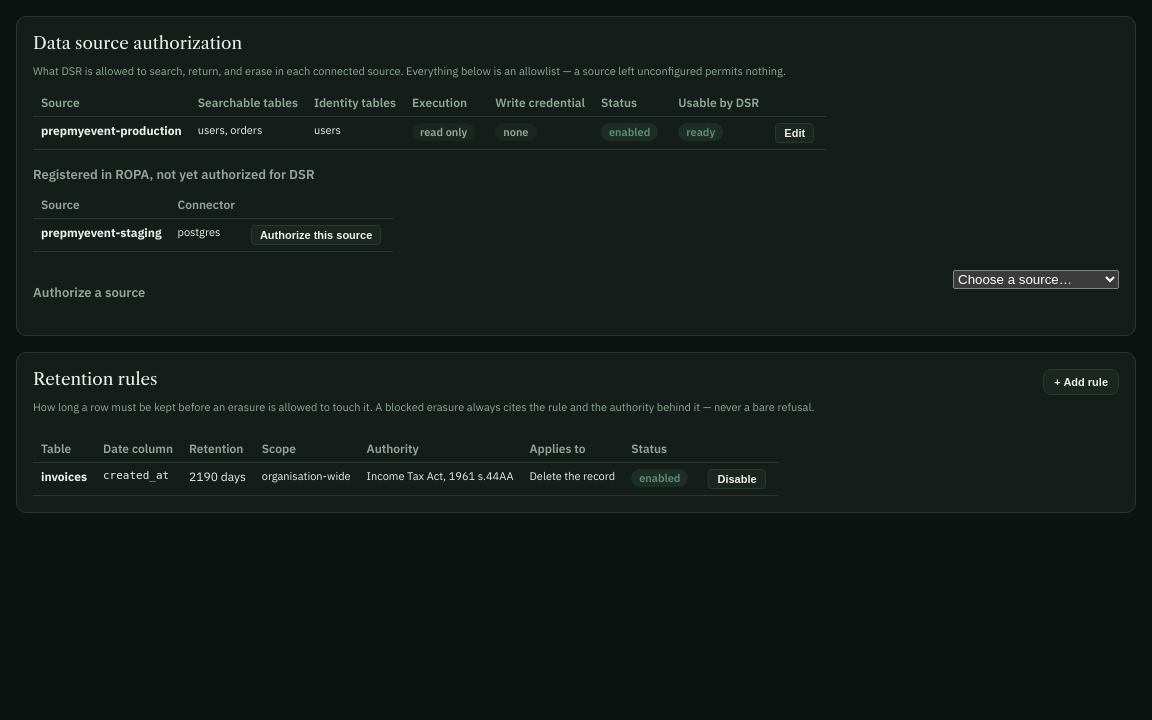
Test: DsrConfig: ROPA sources not yet authorized for DSR › authorizing an unauthorized source from the new list reuses the real authorization form
Expected: the cell "prepmyevent-staging" is shown, x1=33 y1=218 x2=170 y2=252
What coordinates should you click on to do the following:
click the button "Authorize this source"
I would click on:
 (316, 235)
Its box is x1=251 y1=225 x2=381 y2=245.
(page scrolled)
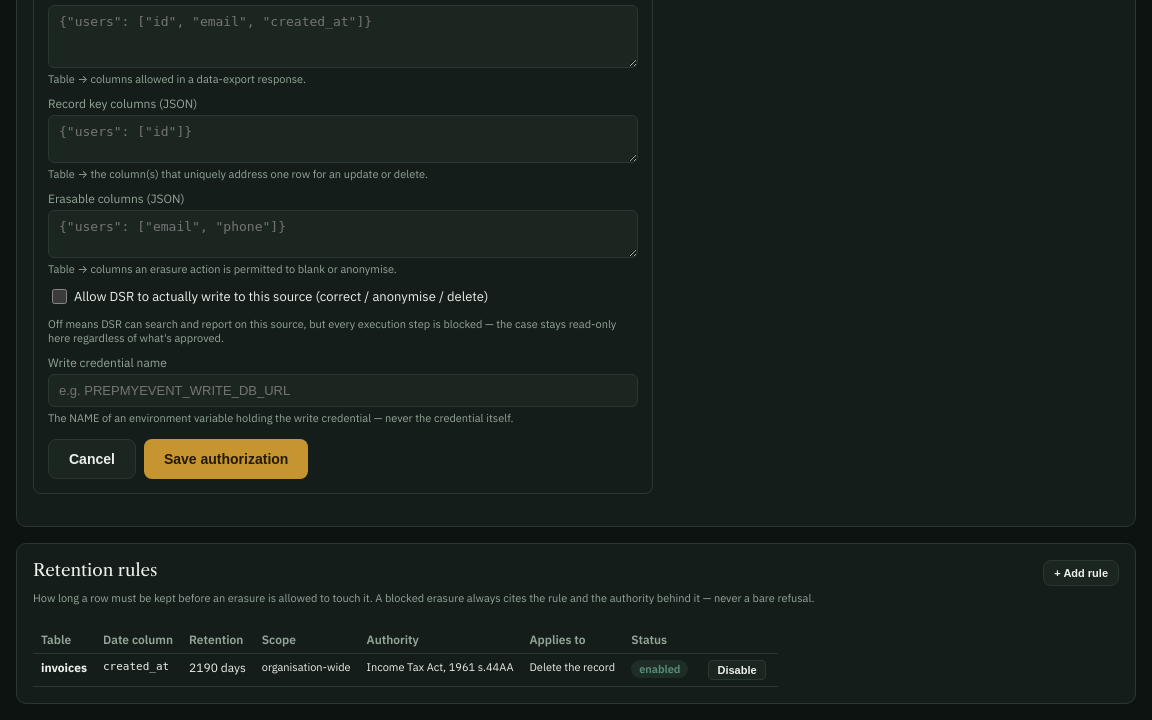
What coordinates should you click on to do the following:
click the button "Save authorization"
I would click on:
 (226, 459)
Its box is x1=144 y1=439 x2=308 y2=479.
(page scrolled)
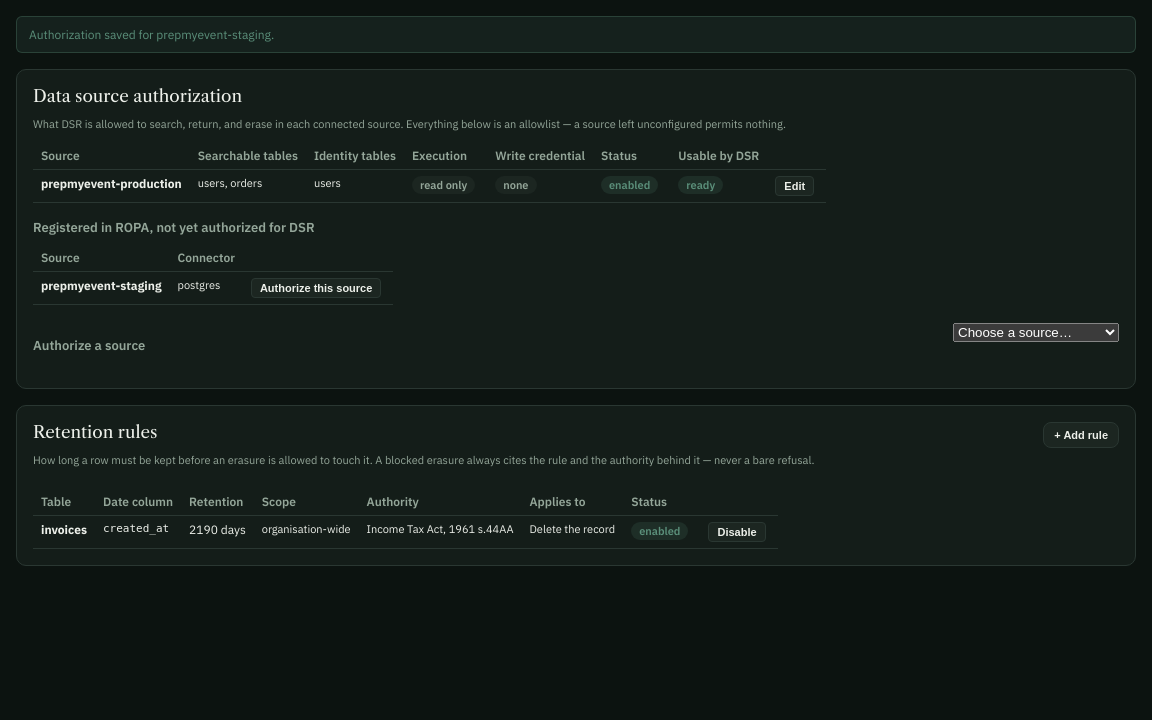
Now the text "Authorization saved for prepmyevent-staging." is shown, box x1=16 y1=16 x2=1136 y2=53
